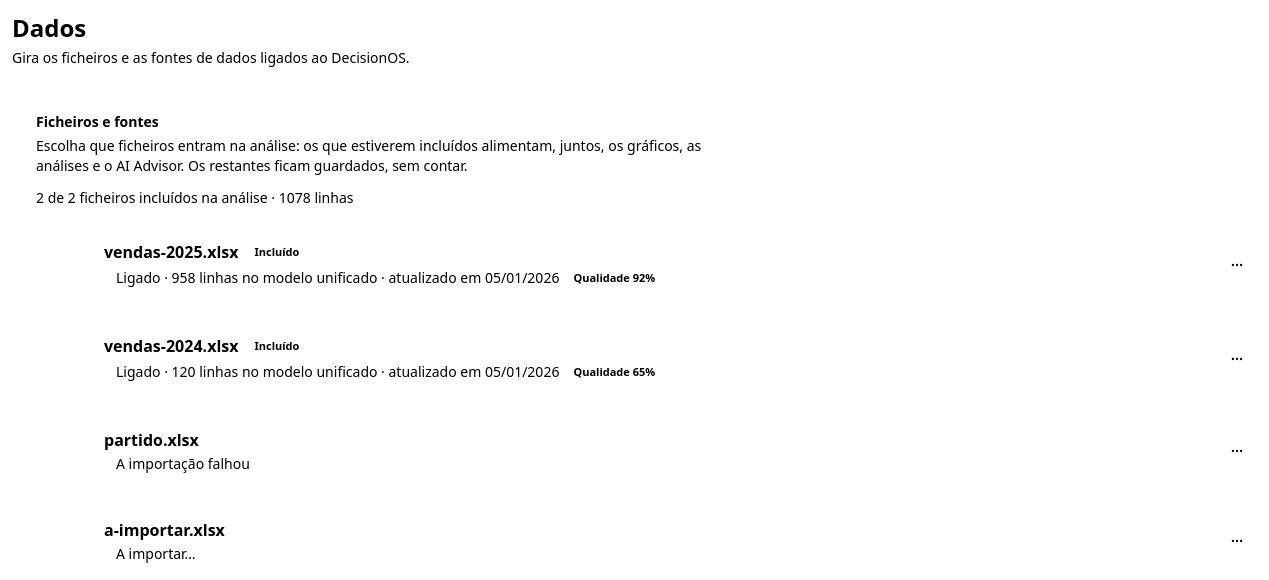
Scenario: DataPage — several files included in the analysis › hides every action from people who can't manage data (viewers), but still shows what is included
The image size is (1269, 580).
Expected: the number of elements with test id "source-row" is 4, [63,241,1252,287]; [63,335,1252,381]; [63,429,1252,473]; [63,519,1252,563]
Expected: the text "Incluído" next to "vendas-2025.xlsx" is shown, [254,244,299,259]
Click the button named "Mais opções de vendas-2024.xlsx" at (1237, 359), box [1222,344,1252,374]
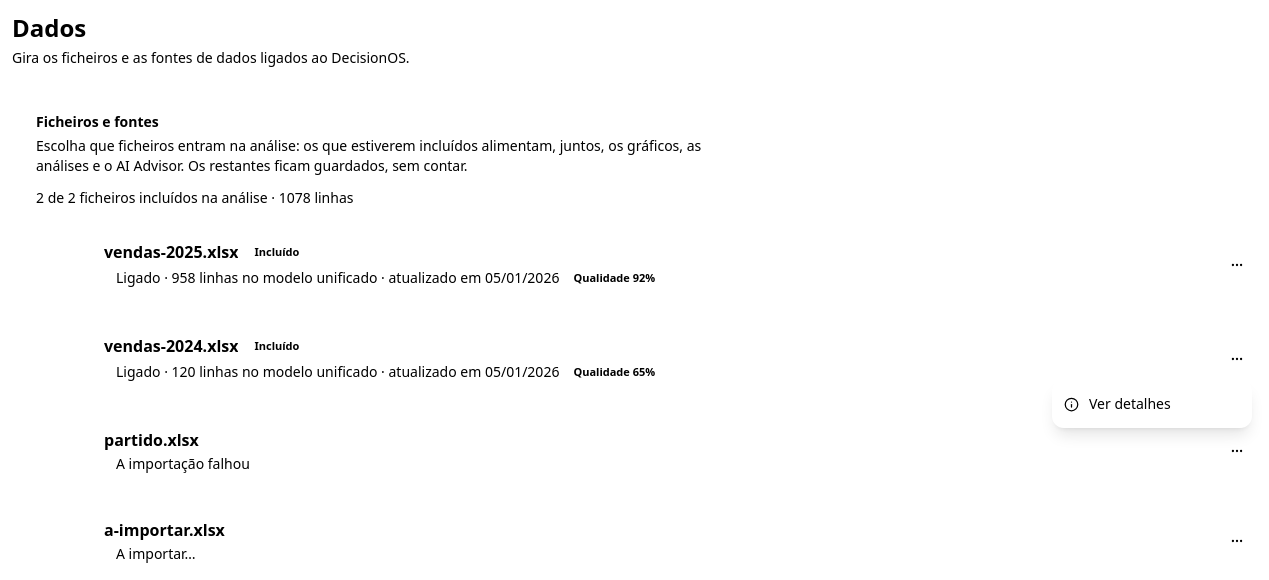
Expected: the menu items read "Ver detalhes", in this order, [1052,386,1252,422]
